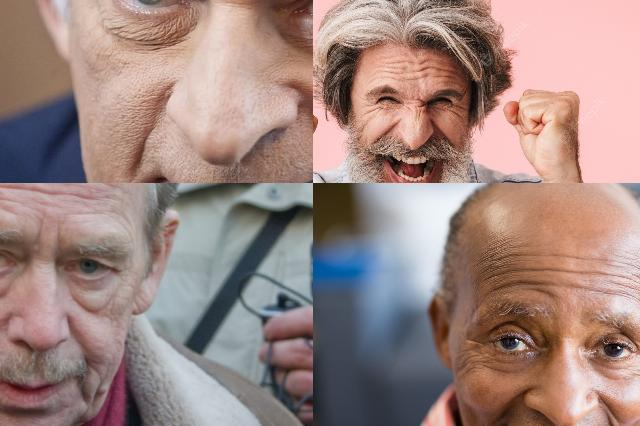crows_feet: (466, 334, 490, 368), (118, 262, 136, 294), (449, 100, 468, 118), (362, 98, 378, 116)
forehead: (57, 183, 121, 214), (613, 267, 640, 305), (485, 263, 517, 295), (529, 255, 569, 280), (526, 276, 560, 304), (578, 265, 608, 295), (0, 183, 46, 200), (412, 56, 438, 84), (382, 59, 406, 81), (442, 64, 458, 88)
frown_line: (34, 217, 64, 249), (412, 94, 426, 118)
gummy_smile: (130, 119, 154, 167), (599, 395, 622, 426), (429, 120, 453, 144), (378, 118, 398, 142)
masseter: (86, 361, 108, 403)
